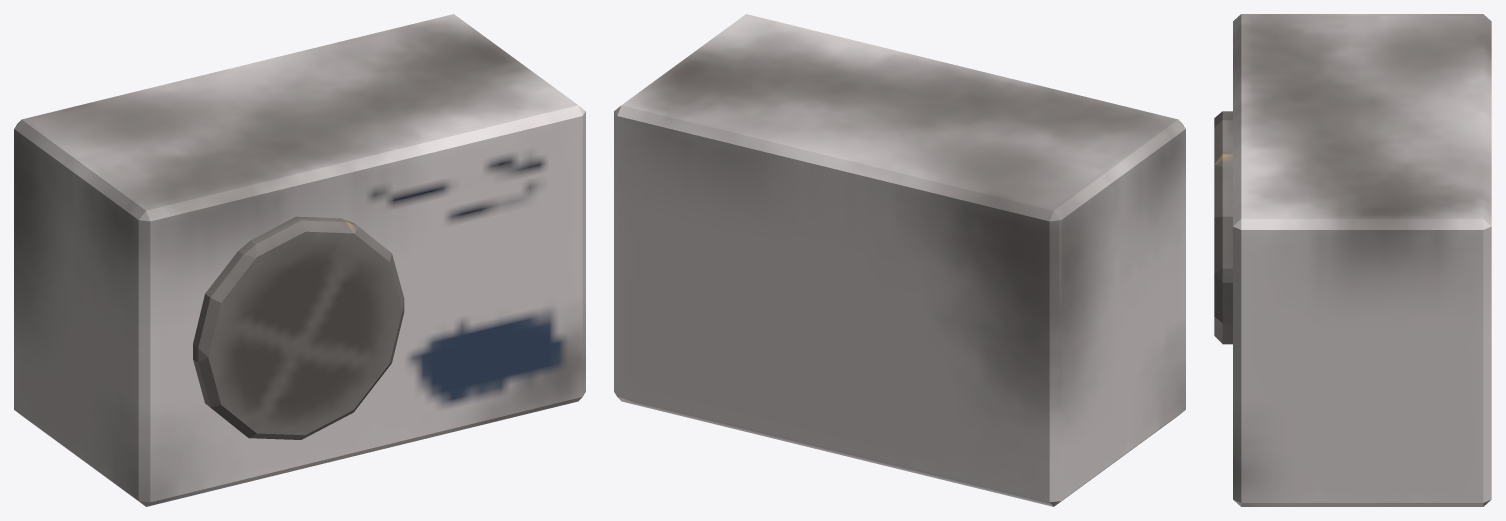
Rendered from dec-ac.fbx.
3 renders of one model, left to right at view 1: azimuth 30°, elevation 25°; view 2: azimuth 150°, elevation 25°; view 3: azimuth 270°, elevation 25°, orthographic. The views are drawn at different scales.
Parts seen in each view (by area): view 1: dec-ac; view 2: dec-ac; view 3: dec-ac.
Boxes of the visible parts, bbox=[...] form: dec-ac: bbox=[14, 14, 585, 506]; dec-ac: bbox=[614, 14, 1185, 506]; dec-ac: bbox=[1214, 14, 1491, 506].
Size of the model in its own units: 1.16 by 0.734 by 0.6408.
